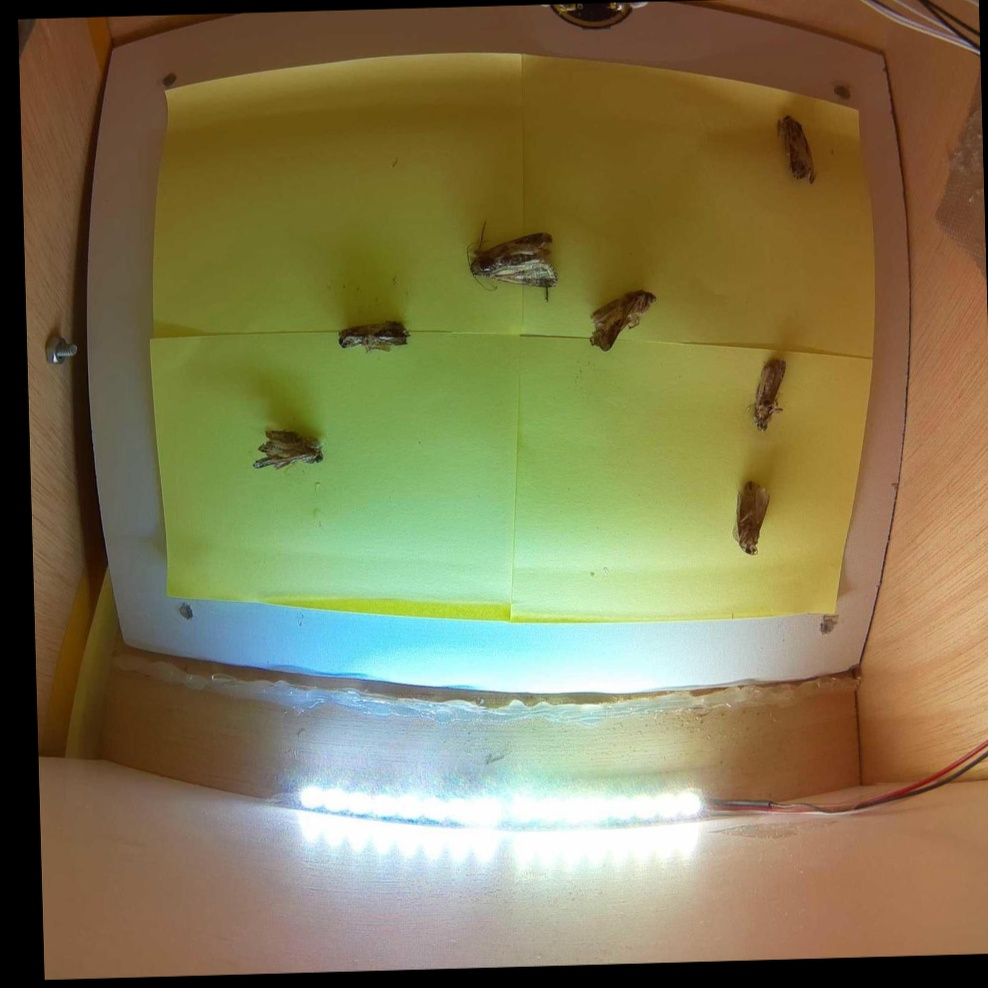Spodoptera litura: (466, 219, 556, 304), (588, 291, 657, 351), (249, 427, 327, 470), (749, 356, 789, 432), (776, 114, 816, 185), (735, 479, 770, 555), (336, 320, 410, 355)
